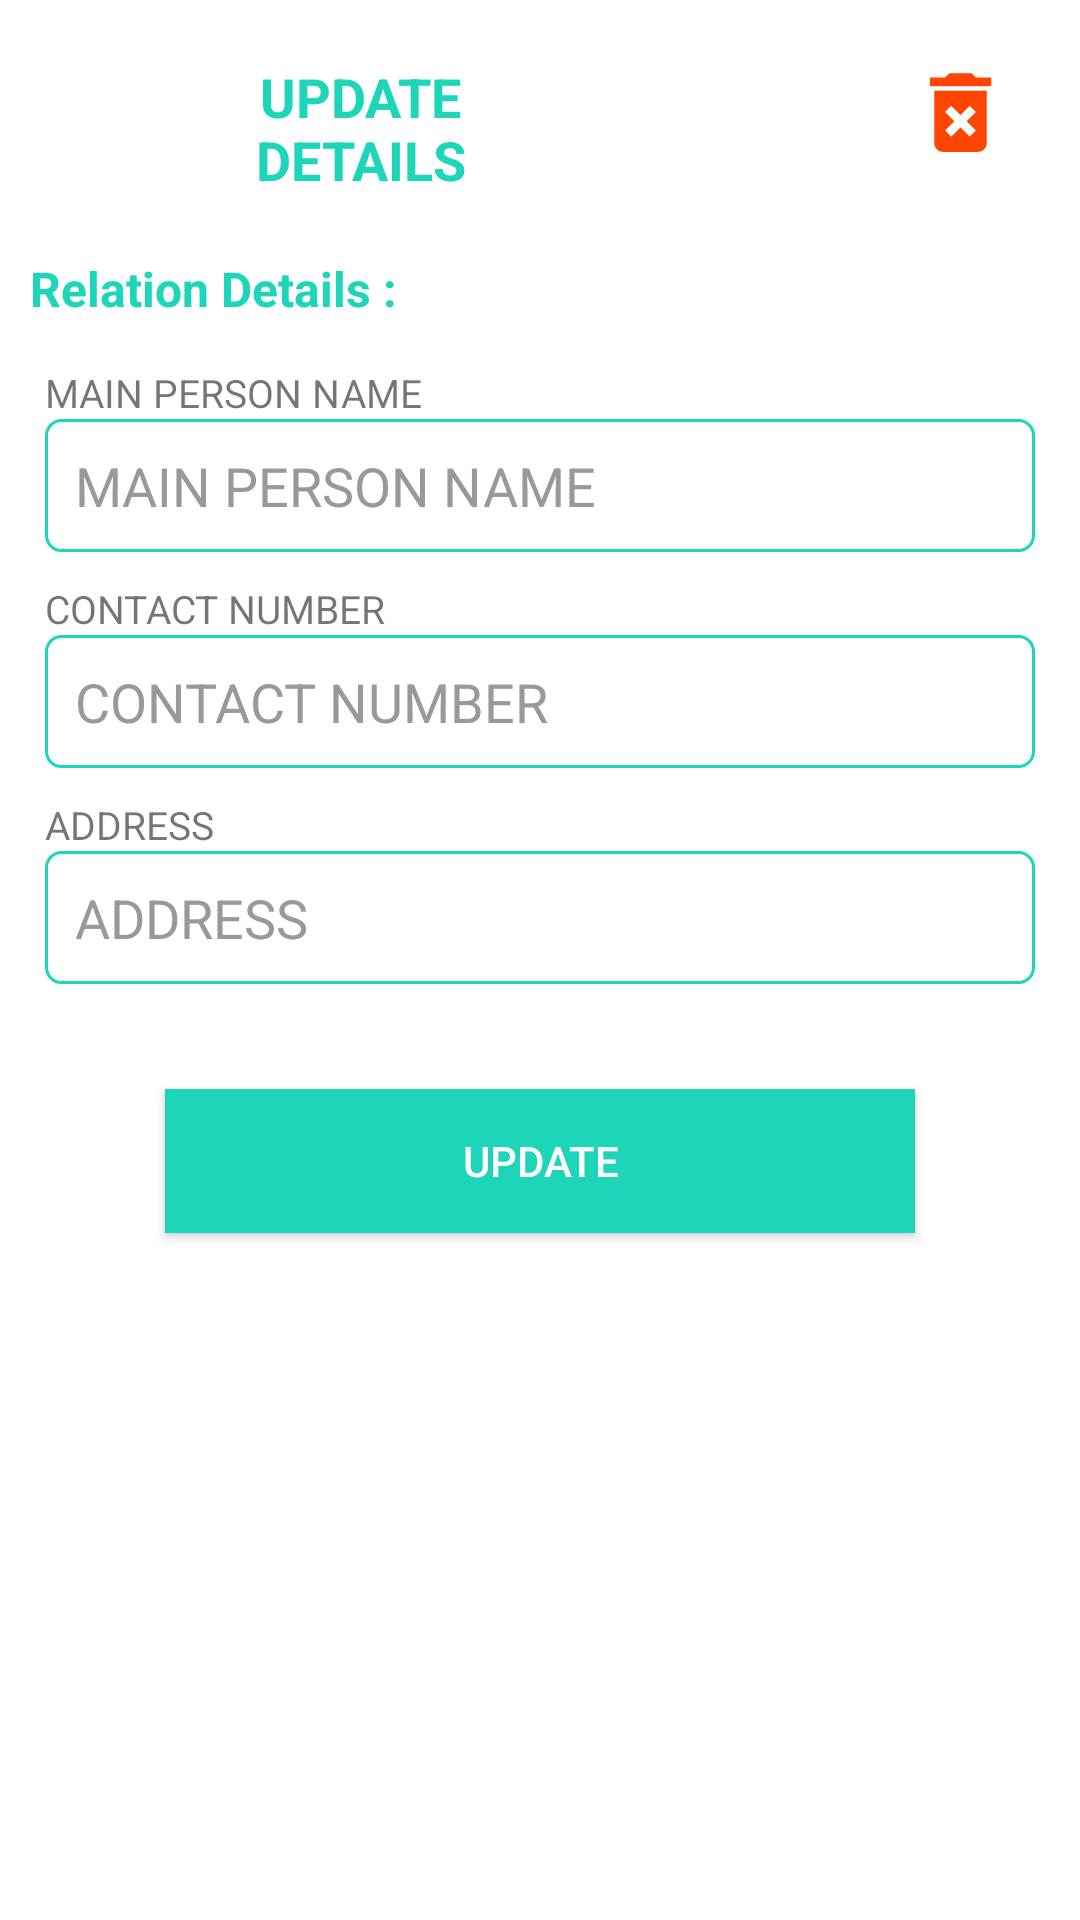

Locate icon controls on the screen. Image size 1080px x 1920px, boxes as {"left": x1, "top": y1, "right": x2, "bottom": y2}.
delete: {"left": 930, "top": 73, "right": 992, "bottom": 152}
